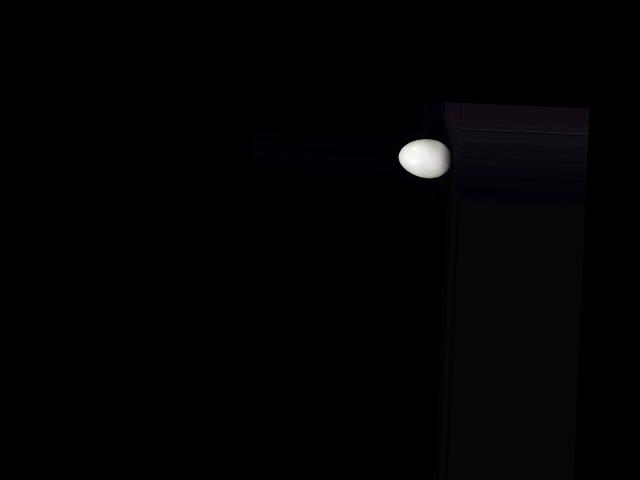egg: (398, 138, 453, 178)
